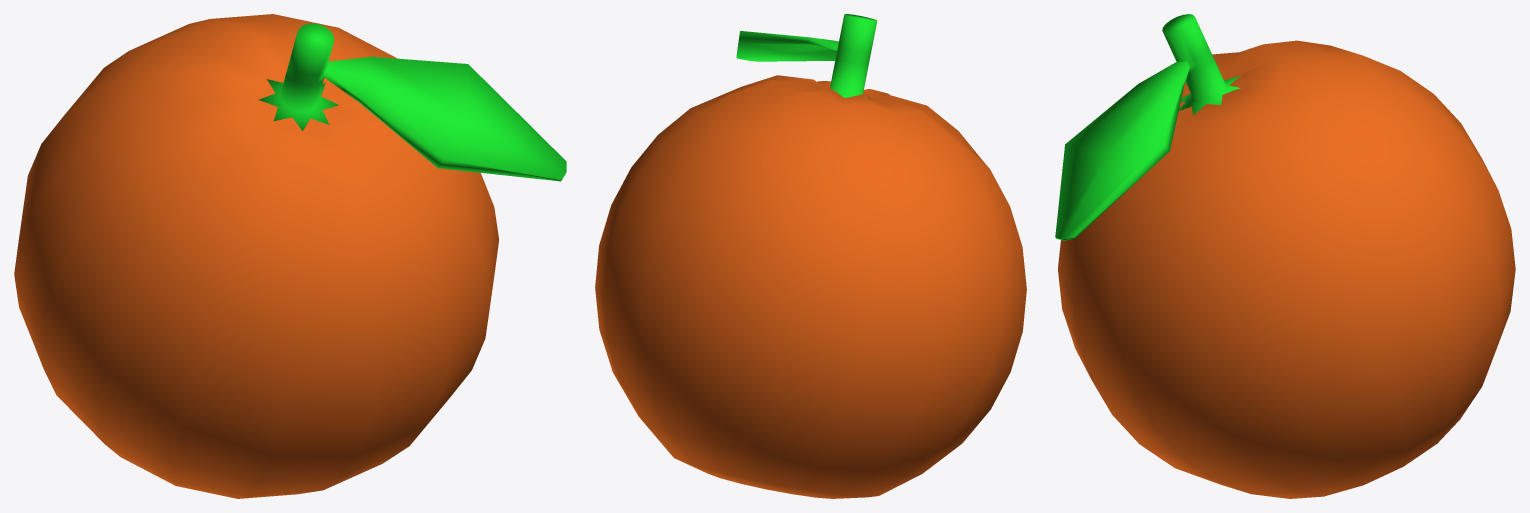
Rendered from Orange.glb.
3 renders of one model, left to right at view 1: azimuth 30°, elevation 25°; view 2: azimuth 150°, elevation 25°; view 3: azimuth 270°, elevation 25°, orthographic. The views are drawn at different scales.
Visible parts, largest first — view 1: Laranja; view 2: Laranja; view 3: Laranja.
Part boxes in pixels (x1=…): Laranja: x1=14, y1=14, x2=566, y2=498; Laranja: x1=595, y1=14, x2=1026, y2=498; Laranja: x1=1055, y1=14, x2=1515, y2=498.
Bounding box in the file's own units: 1.28 × 1.42 × 1.29.
